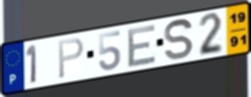1: (25, 43, 38, 86)
2: (197, 11, 224, 59)
5: (97, 29, 122, 72)
E: (127, 22, 159, 69)
P: (57, 36, 86, 81)
S: (163, 18, 195, 61)
